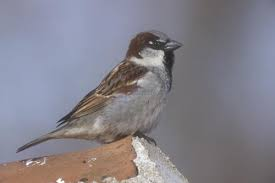hsparrow: (12, 25, 190, 154)
